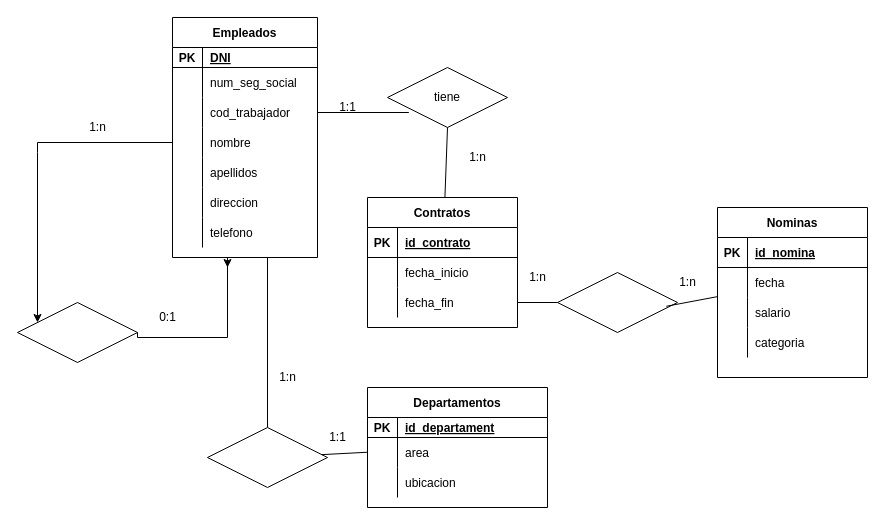
This 885x525 diagram has some shape labels left out. Here are the shapes that lost their labels. From the top down, the centre of each, then its label:
At point (617, 302): "genera".
At point (77, 332): "Responsable".
At point (267, 457): "pertenece".
